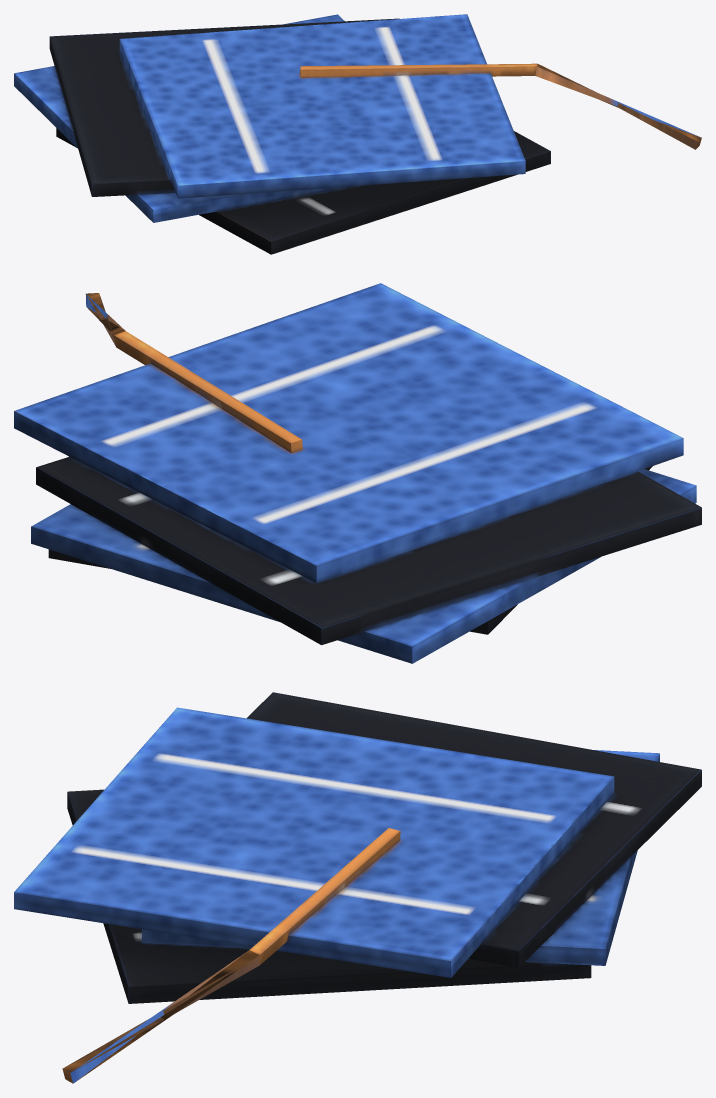
The model's file is RenewableEnergy_SolarCells.fbx.
The picture shows the model from 3 angles, top to bottom: view 1: azimuth 30°, elevation 25°; view 2: azimuth 150°, elevation 25°; view 3: azimuth 270°, elevation 25°; orthographic projection. The views are drawn at different scales.
Parts seen in each view (by area): view 1: SolarCells; view 2: SolarCells; view 3: SolarCells.
Part boxes in pixels (bbox=[...]): SolarCells: bbox=[14, 14, 701, 254]; SolarCells: bbox=[14, 283, 701, 663]; SolarCells: bbox=[14, 692, 701, 1083].
Bounding box in the file's own units: 0.1747 × 0.0185 × 0.1474.
